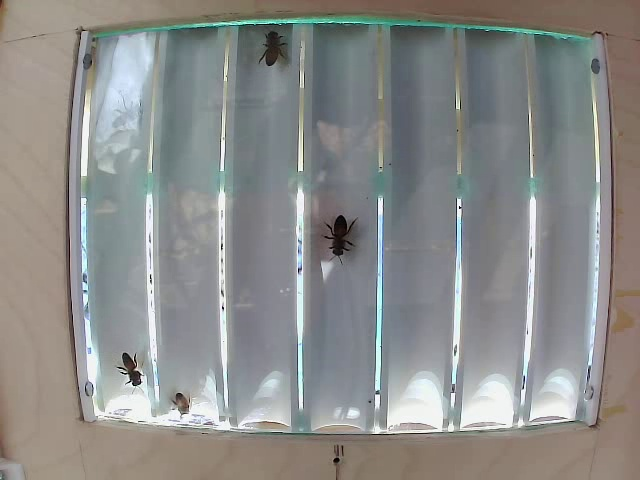bee: (313, 208, 364, 263), (106, 335, 150, 391), (254, 28, 300, 63)
